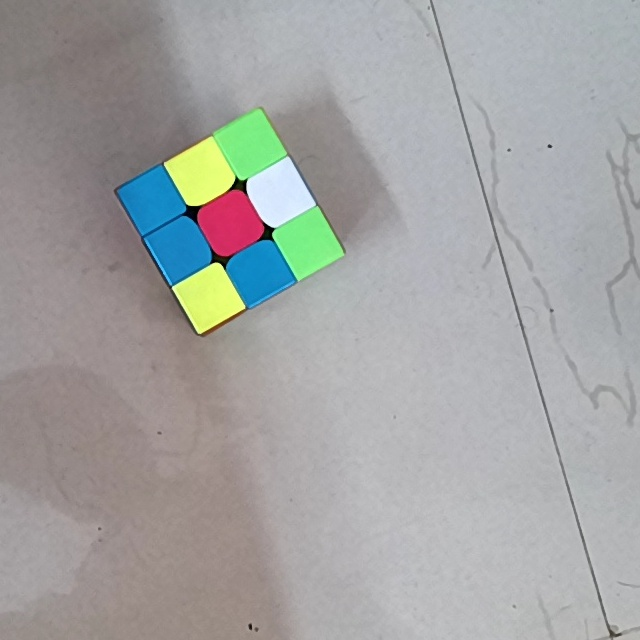tile: (212, 202, 250, 243), (160, 230, 199, 269), (260, 175, 299, 213), (132, 181, 171, 219), (230, 127, 270, 163), (290, 223, 326, 261), (241, 253, 279, 289), (182, 155, 220, 191), (190, 279, 229, 314)
